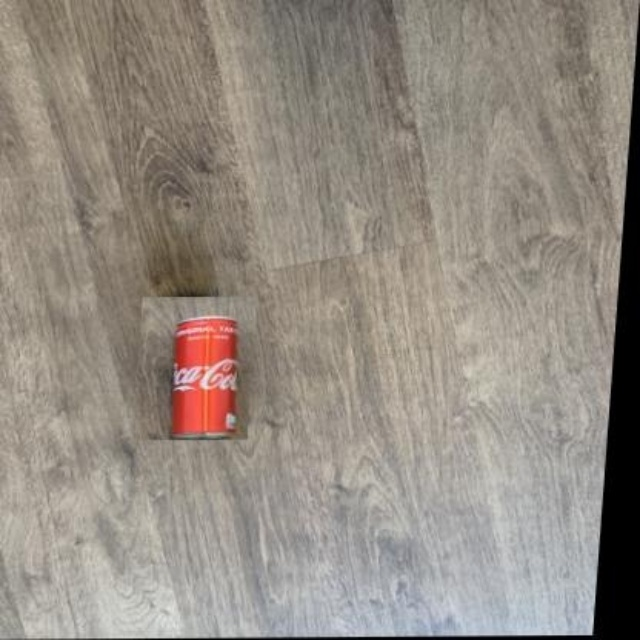trash: (172, 315, 237, 437)
